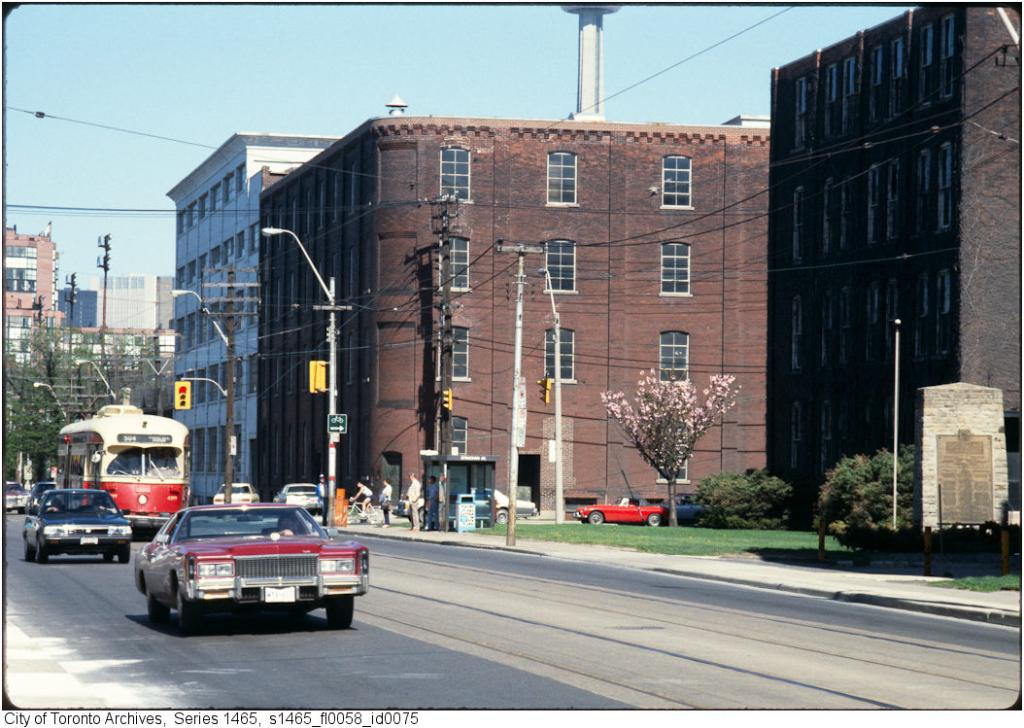Car: (127, 500, 372, 631), (20, 483, 136, 559), (572, 490, 667, 525)
